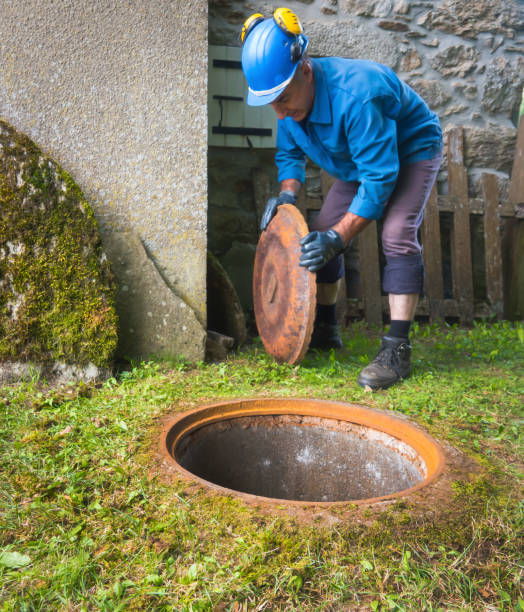open_manhole: (177, 404, 430, 503)
